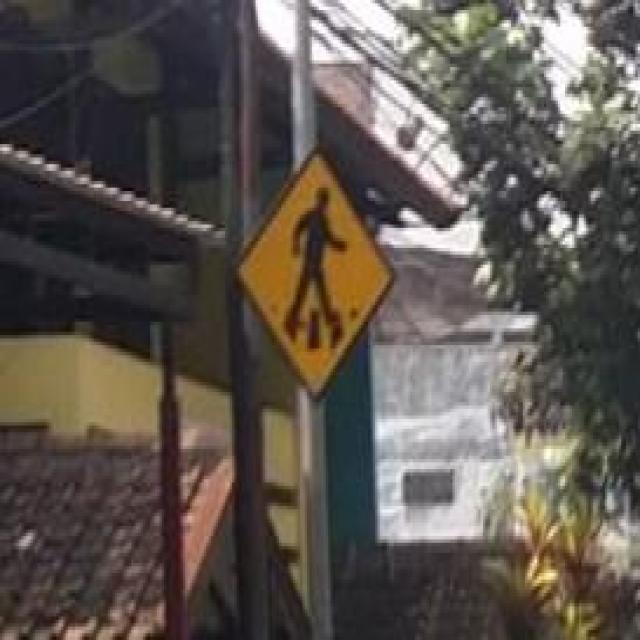traffic sign: (241, 158, 394, 389)
